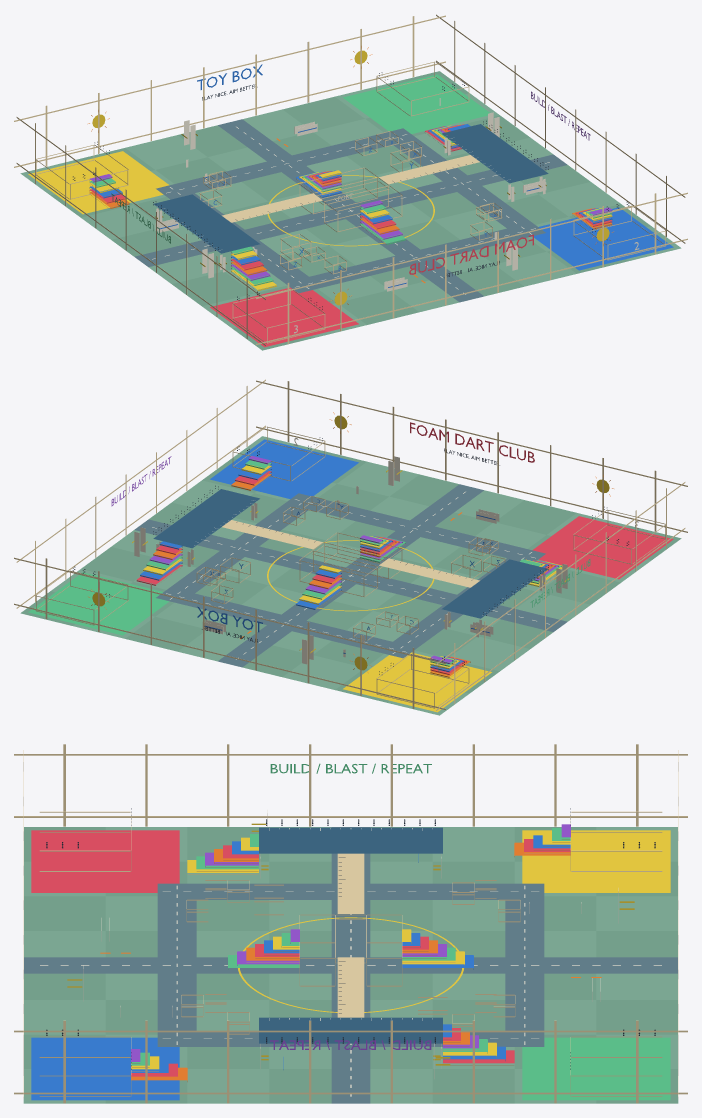
File: fps_arena.glb
3 renders of one model, top to bottom at view 1: azimuth 30°, elevation 25°; view 2: azimuth 150°, elevation 25°; view 3: azimuth 270°, elevation 25°, orthographic. The views are drawn at different scales.
Visible parts, largest first — view 1: Playmat floor, detail_Playmat checks, detail_Playmat roads, detail_Paper tape, detail_Lemon, detail_Apple, detail_Coral, detail_Blueberry, detail_Book navy, detail_Vanilla plastic, detail_Grape, detail_Tangerine (+1 smaller); view 2: Playmat floor, detail_Playmat checks, detail_Playmat roads, detail_Paper tape, detail_Lemon, detail_Coral, detail_Apple, detail_Blueberry, detail_Book navy, detail_Vanilla plastic, detail_Grape, detail_Tangerine (+1 smaller); view 3: Playmat floor, detail_Playmat checks, detail_Playmat roads, detail_Paper tape, detail_Apple, detail_Lemon, detail_Coral, detail_Blueberry, detail_Book navy, detail_Grape, detail_Tangerine, detail_Vanilla plastic (+1 smaller).
Part boxes in pixels (left/top/right/bottom): Playmat floor: left=51, top=71, right=651, bottom=350; detail_Playmat checks: left=20, top=84, right=681, bottom=337; detail_Playmat roads: left=134, top=119, right=567, bottom=302; detail_Paper tape: left=14, top=14, right=687, bottom=345; detail_Lemon: left=28, top=50, right=612, bottom=305; detail_Apple: left=89, top=74, right=612, bottom=285; detail_Coral: left=89, top=124, right=612, bottom=347; detail_Blueberry: left=89, top=64, right=673, bottom=287; detail_Book navy: left=153, top=124, right=548, bottom=253; detail_Vanilla plastic: left=152, top=98, right=639, bottom=333; detail_Grape: left=90, top=91, right=612, bottom=280; detail_Tangerine: left=88, top=46, right=613, bottom=308; Playmat floor: left=20, top=449, right=681, bottom=702; detail_Playmat checks: left=50, top=436, right=650, bottom=715; detail_Playmat roads: left=134, top=484, right=567, bottom=667; detail_Paper tape: left=14, top=379, right=687, bottom=710; detail_Lemon: left=92, top=415, right=609, bottom=712; detail_Coral: left=136, top=422, right=673, bottom=674; detail_Apple: left=28, top=459, right=590, bottom=666; detail_Blueberry: left=140, top=439, right=548, bottom=672; detail_Book navy: left=153, top=489, right=548, bottom=618; detail_Vanilla plastic: left=99, top=438, right=638, bottom=671; detail_Grape: left=111, top=456, right=558, bottom=663; detail_Tangerine: left=88, top=411, right=613, bottom=677; Playmat floor: left=24, top=827, right=678, bottom=1103; detail_Playmat checks: left=23, top=827, right=677, bottom=1103; detail_Playmat roads: left=24, top=827, right=677, bottom=1103; detail_Paper tape: left=14, top=744, right=687, bottom=1103; detail_Apple: left=131, top=763, right=670, bottom=1100; detail_Lemon: left=67, top=823, right=670, bottom=1069; detail_Coral: left=31, top=830, right=570, bottom=1076; detail_Blueberry: left=31, top=835, right=570, bottom=1100; detail_Book navy: left=259, top=827, right=442, bottom=1043; detail_Grape: left=131, top=824, right=570, bottom=1061; detail_Tangerine: left=100, top=842, right=601, bottom=1081; detail_Vanilla plastic: left=40, top=810, right=661, bottom=1096.
Size of what is drawn, in the model's own units: 65.9 by 8.94 by 65.9.
